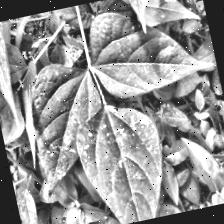Bean Rust: (18, 55, 117, 197), (72, 104, 177, 224), (90, 0, 213, 101)
